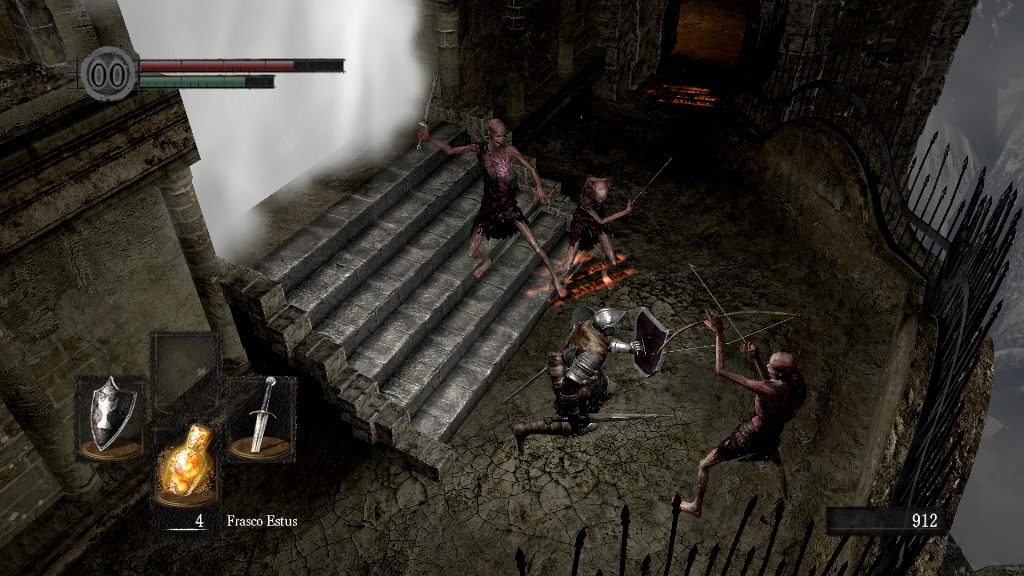health: (138, 58, 343, 71)
hollow: (414, 72, 563, 301), (677, 264, 808, 519), (571, 156, 638, 287)
humanity: (80, 45, 136, 102)
player: (502, 304, 661, 457)
souls: (825, 506, 945, 536)
stamina: (138, 74, 274, 88)
